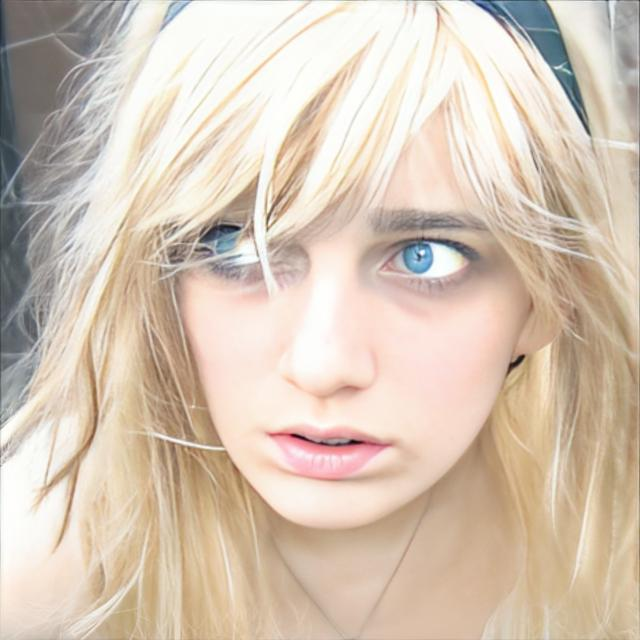Fear: (170, 59, 526, 530)
